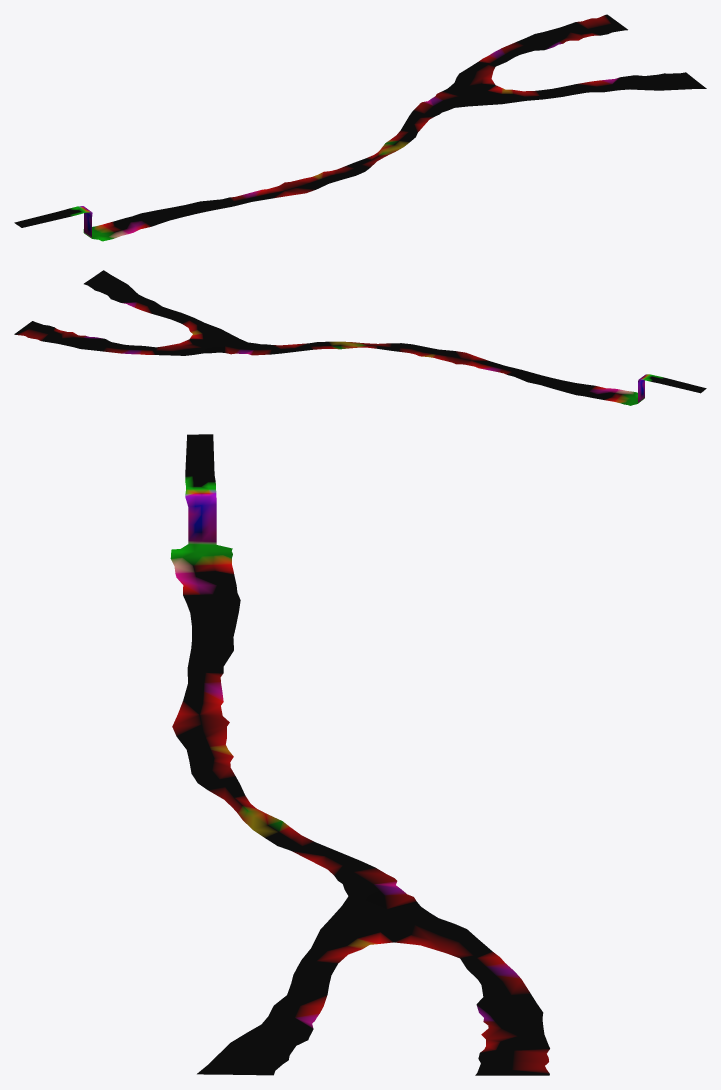
The picture shows the model from 3 angles, top to bottom: view 1: azimuth 30°, elevation 25°; view 2: azimuth 150°, elevation 25°; view 3: azimuth 270°, elevation 25°; orthographic projection. The views are drawn at different scales.
Visible parts, largest first — view 1: G:\FFXIV-MapTools\exports\n5f1\bg\ex4\01_nvt_n5\fld\n5f1\bgp (×2); view 2: G:\FFXIV-MapTools\exports\n5f1\bg\ex4\01_nvt_n5\fld\n5f1\bgp (×2); view 3: G:\FFXIV-MapTools\exports\n5f1\bg\ex4\01_nvt_n5\fld\n5f1\bgp (×2).
Boxes of the visible parts, left/top/right/bottom form: G:\FFXIV-MapTools\exports\n5f1\bg\ex4\01_nvt_n5\fld\n5f1\bgp (×2): left=14, top=14, right=706, bottom=241; G:\FFXIV-MapTools\exports\n5f1\bg\ex4\01_nvt_n5\fld\n5f1\bgp (×2): left=14, top=270, right=706, bottom=405; G:\FFXIV-MapTools\exports\n5f1\bg\ex4\01_nvt_n5\fld\n5f1\bgp (×2): left=170, top=434, right=549, bottom=1075.
Bounding box in the file's own units: 573 × 24.22 × 156.
